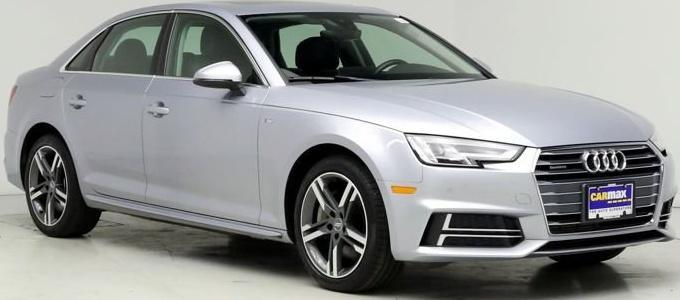Cars: (6, 4, 678, 293)
